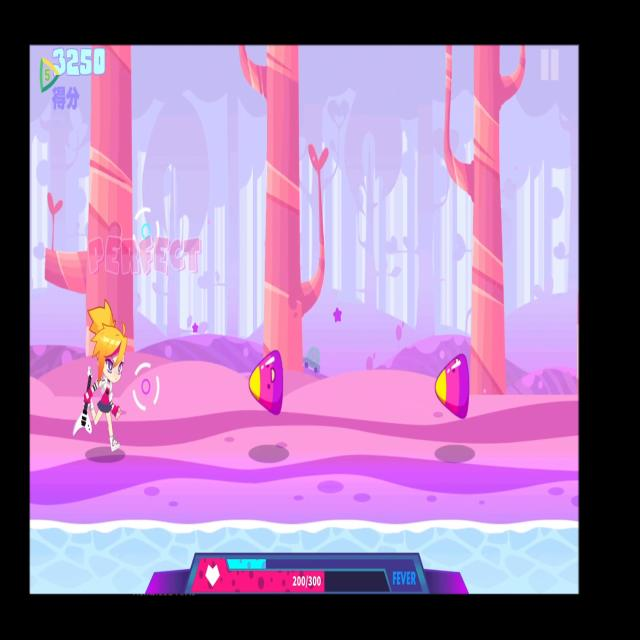Ground Monster - Red Bullet: (430, 338, 479, 426), (244, 342, 288, 421)
